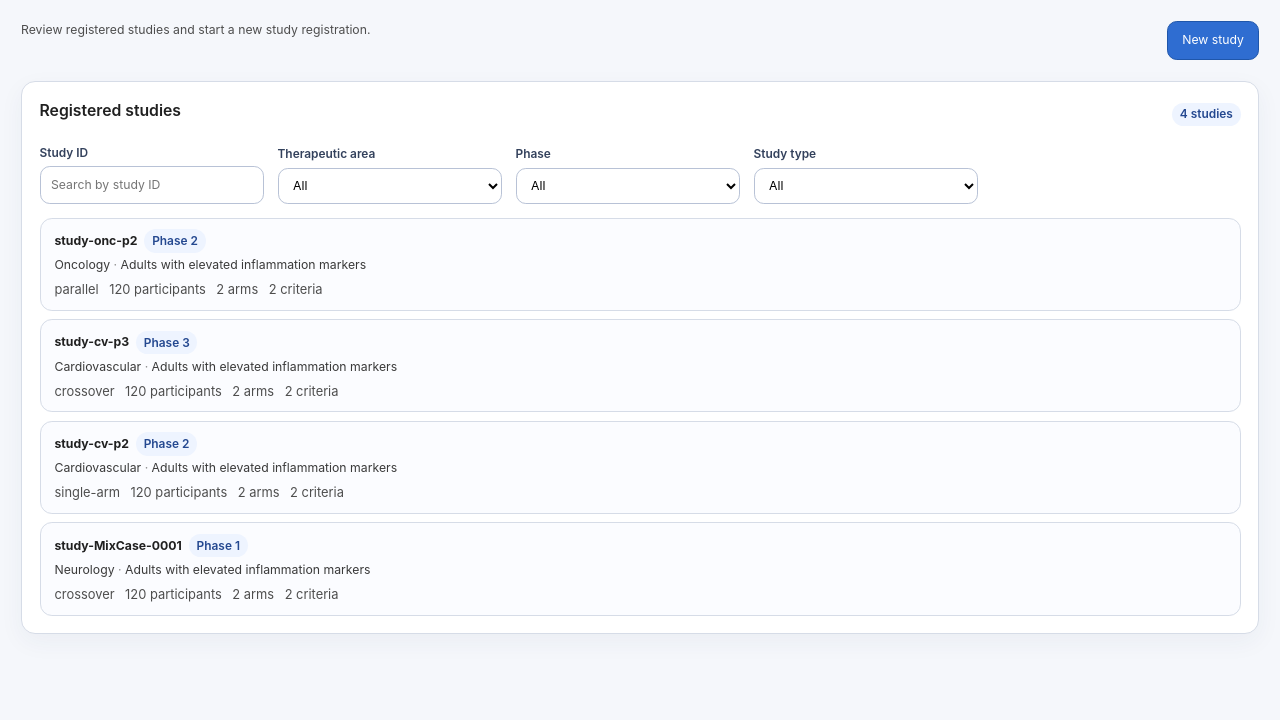
Test: AllStudiesPage filter bar › filters study IDs by case-insensitive substring
Type "onc-p2" into the search field labelled "Study ID" at {"x": 152, "y": 185}, box left=40, top=166, right=264, bottom=204
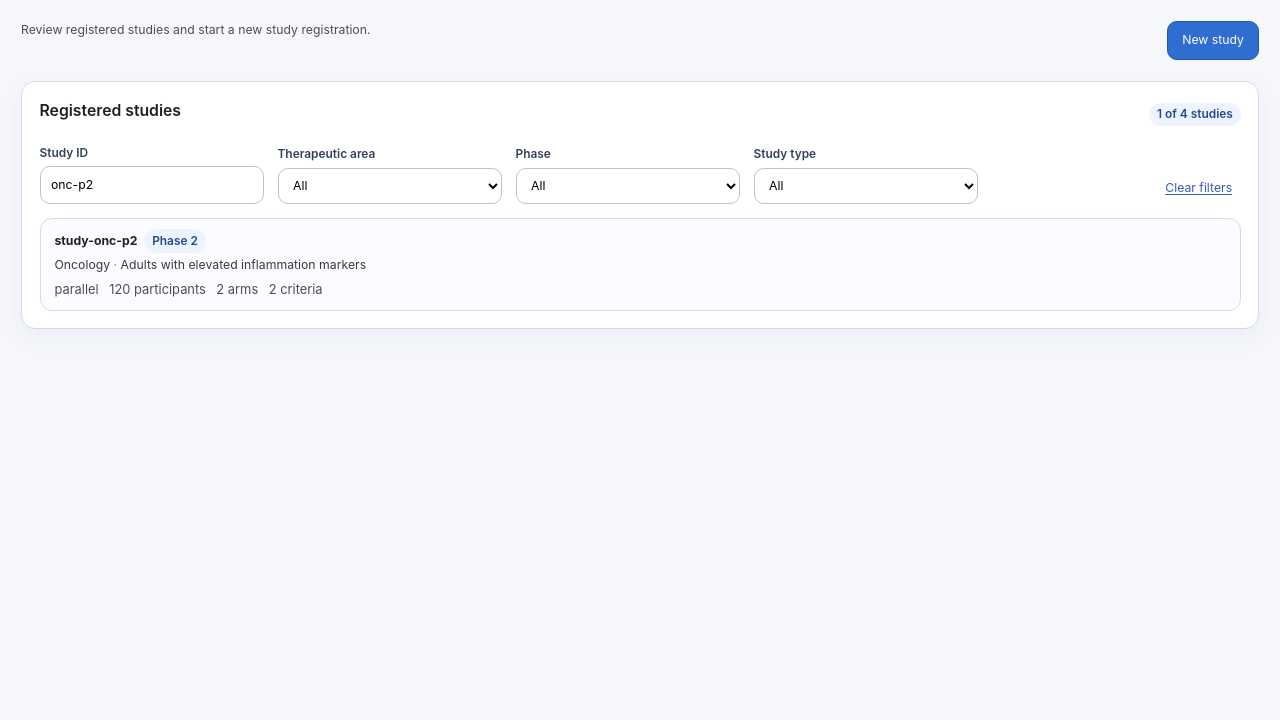
Expected: the link "study-onc-p2" is shown, left=40, top=218, right=1240, bottom=311
Expected: the link "study-cv-p3" is gone
Clear the search field labelled "Study ID" at {"x": 152, "y": 185}, box left=40, top=166, right=264, bottom=204
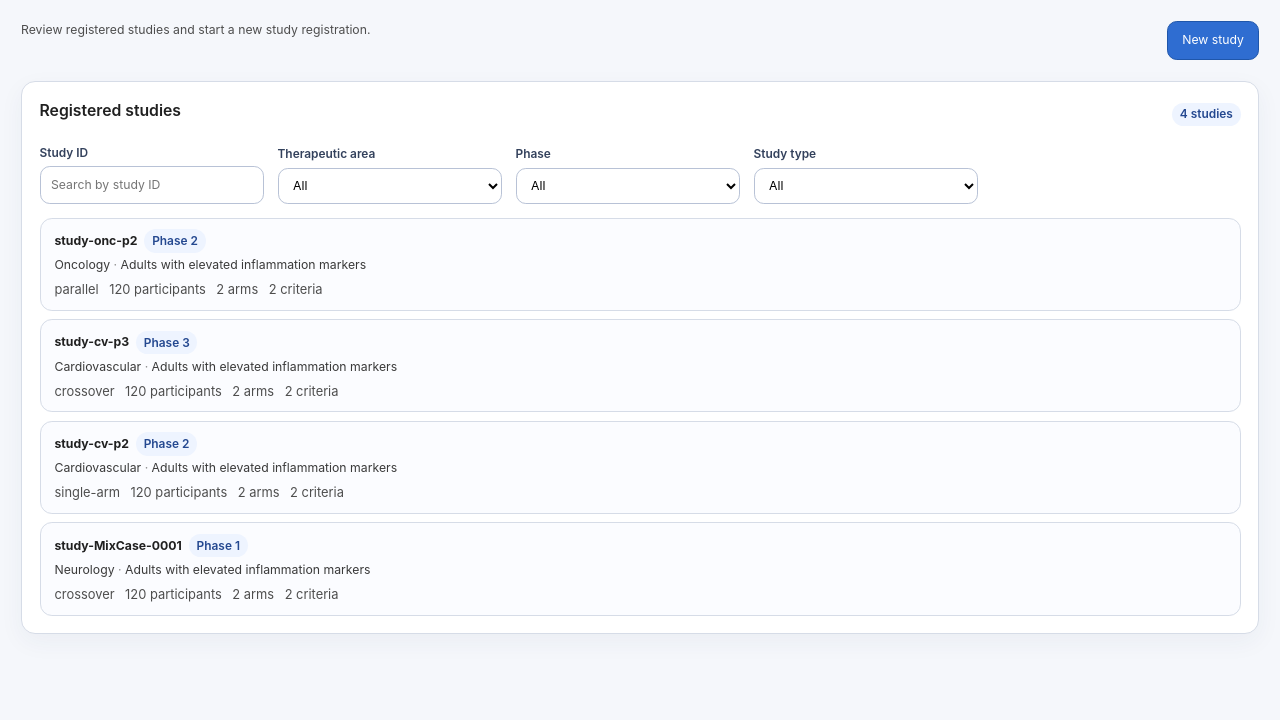
Expected: the link "study-cv-p3" is shown, left=40, top=319, right=1240, bottom=412
Type "mixcase" into the search field labelled "Study ID" at {"x": 152, "y": 185}, box left=40, top=166, right=264, bottom=204
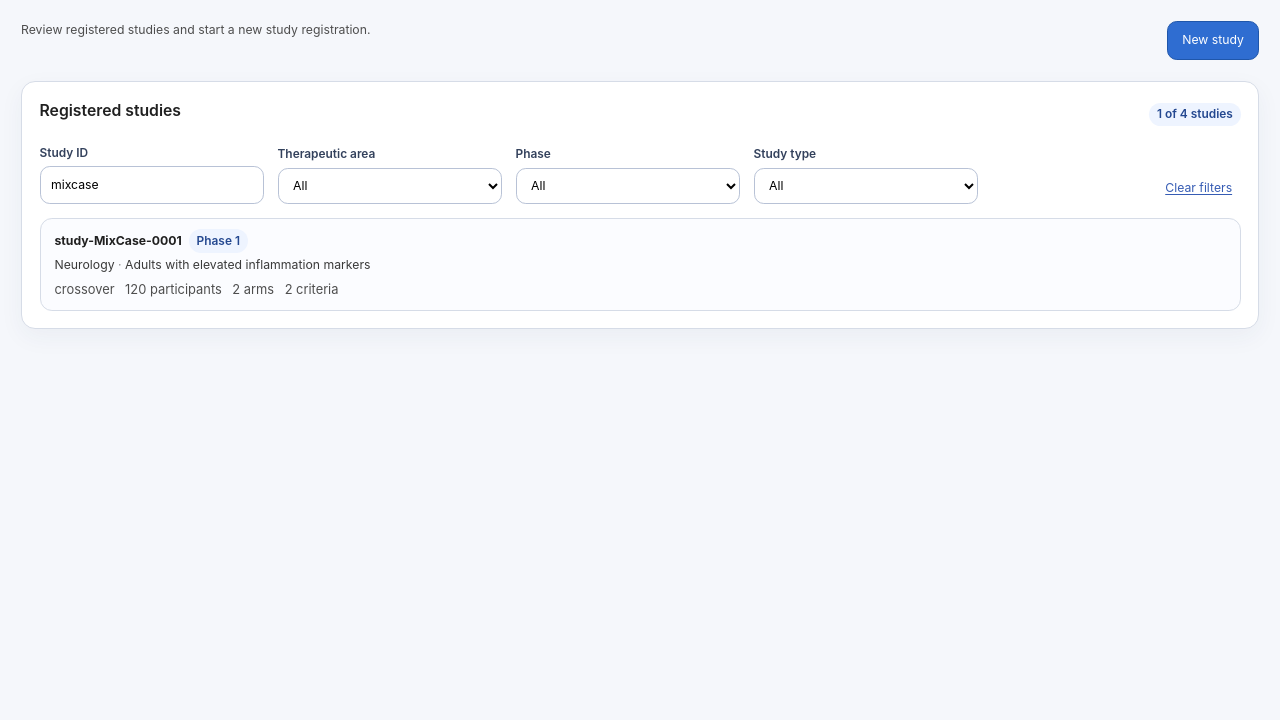
Expected: the link "study-MixCase-0001" is shown, left=40, top=218, right=1240, bottom=311
Expected: the link "study-onc-p2" is gone
